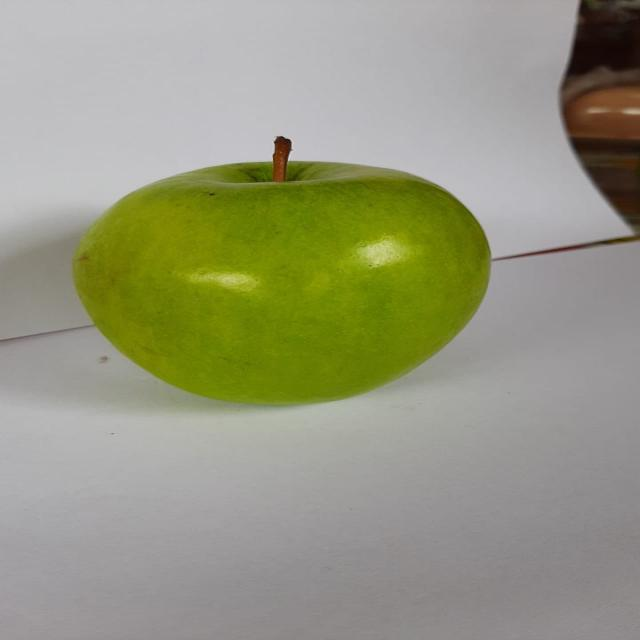50-_ripeness: (55, 128, 501, 418)
